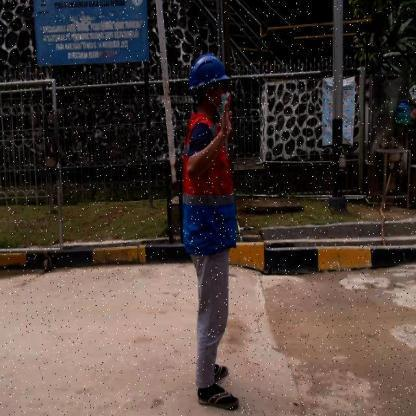helmet: (188, 52, 230, 90)
mask: (211, 90, 230, 118)
